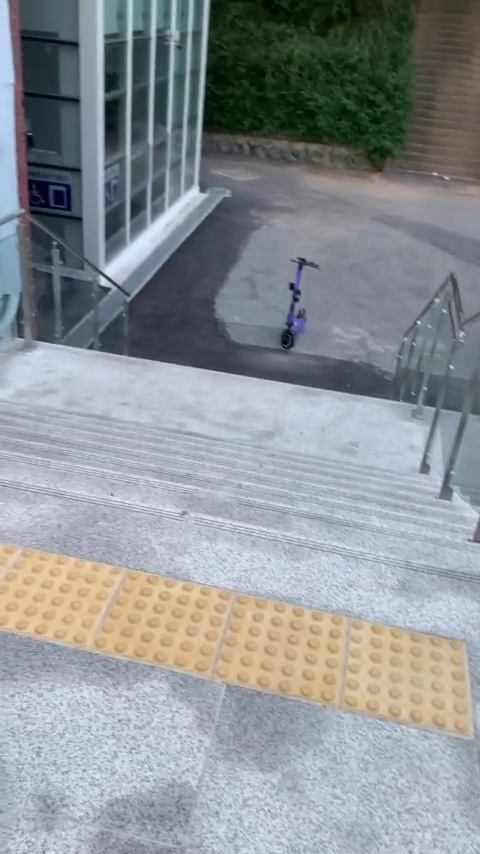beam: (275, 251, 320, 357)
